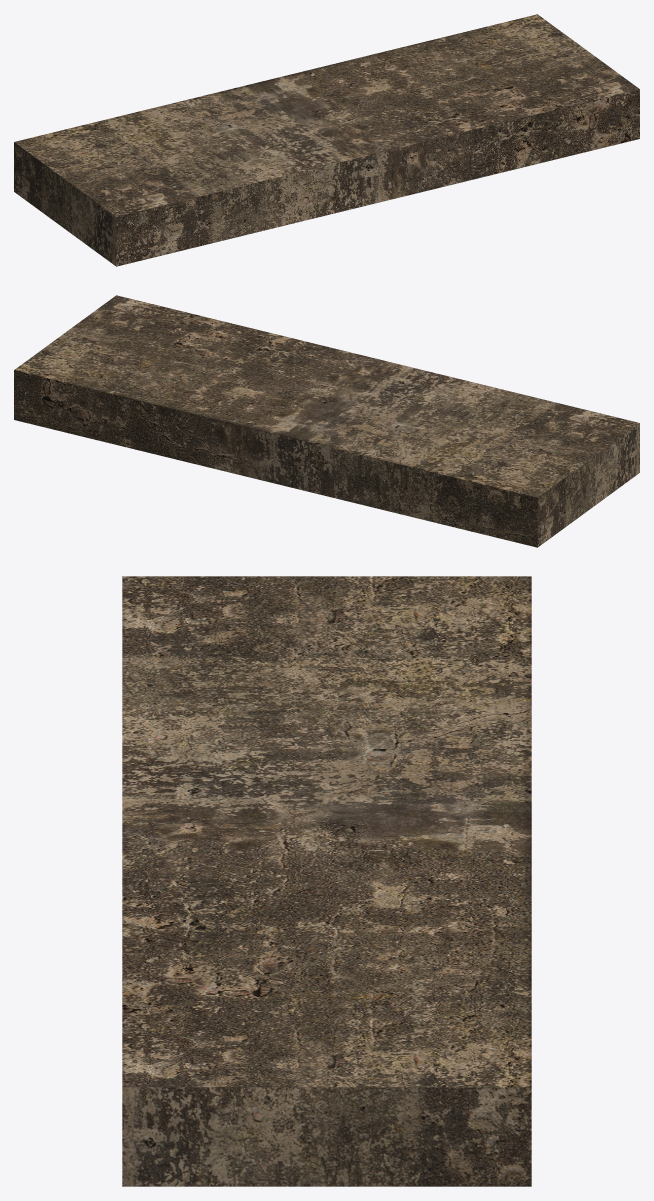
File: materials_5_floor_rectangle_15.fbx
The picture shows the model from 3 angles, top to bottom: view 1: azimuth 30°, elevation 25°; view 2: azimuth 150°, elevation 25°; view 3: azimuth 270°, elevation 25°; orthographic projection. The views are drawn at different scales.
Visible parts, largest first — view 1: materials_5_floor_rectangle_15; view 2: materials_5_floor_rectangle_15; view 3: materials_5_floor_rectangle_15.
Part boxes in pixels (box(x1,y1,x2,y2)): materials_5_floor_rectangle_15: box(14, 14, 639, 266); materials_5_floor_rectangle_15: box(14, 295, 639, 547); materials_5_floor_rectangle_15: box(122, 576, 531, 1186).
Bounding box in the file's own units: 472 × 42.89 × 160.
